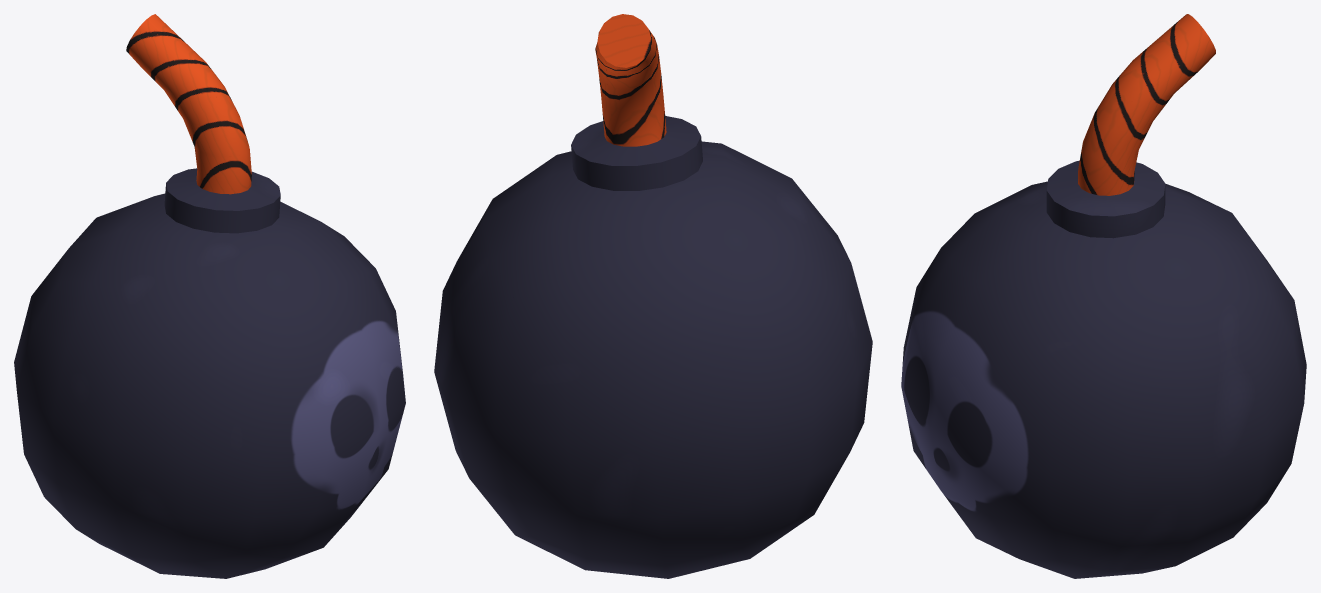
The model's file is Bomb.fbx.
3 views of the same model, side by side, from view 1: azimuth 30°, elevation 25°; view 2: azimuth 150°, elevation 25°; view 3: azimuth 270°, elevation 25° (orthographic). The views are drawn at different scales.
Parts seen in each view (by area): view 1: Circle.002_Circle.005; view 2: Circle.002_Circle.005; view 3: Circle.002_Circle.005.
Part boxes in pixels (x1,y1,x2,y2): Circle.002_Circle.005: (14,14,405,578); Circle.002_Circle.005: (434,14,872,578); Circle.002_Circle.005: (901,14,1306,578).
Size of the model in its own units: 168 by 245 by 169.
